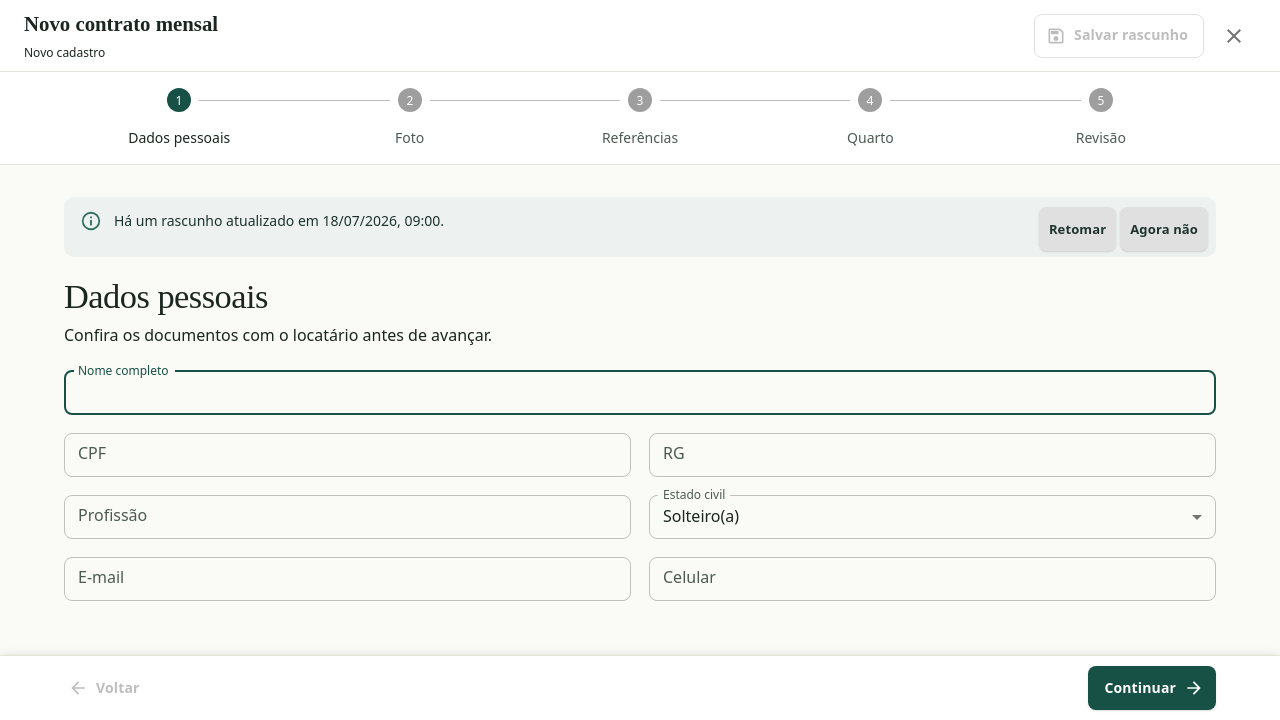
it: OnboardingWizard › retoma um rascunho com foto persistida sem exigir nova seleção
Click the button "Retomar": (1078, 229) [1039, 207, 1116, 251]
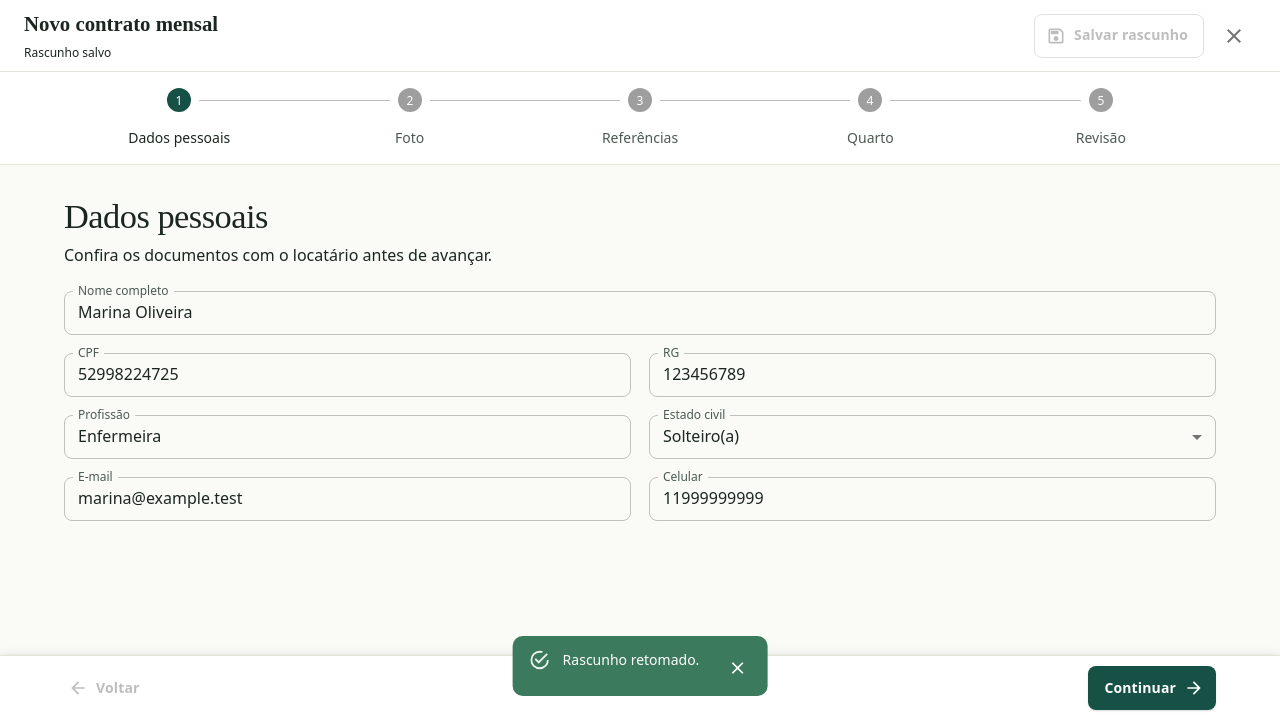
Click the button "Continuar": (1152, 688) [1088, 666, 1216, 710]
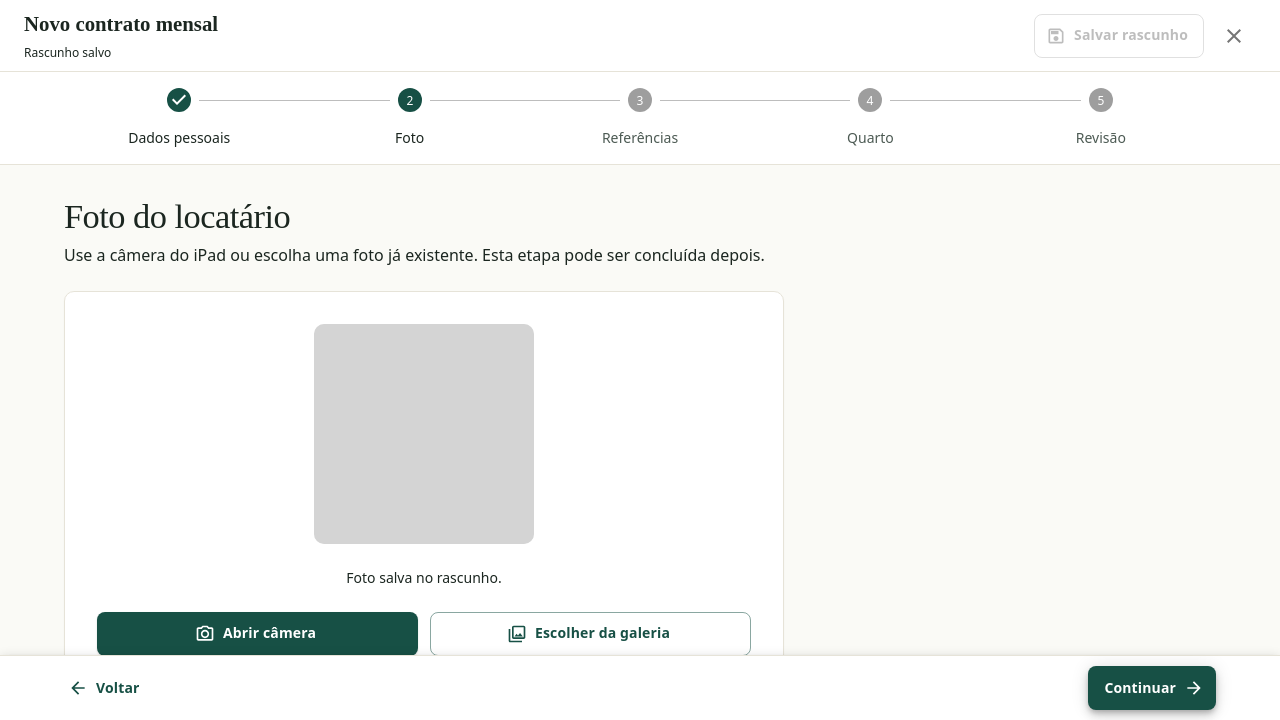
Now the text "Foto salva no rascunho." is shown, box [346, 568, 502, 588]
Click the button "Continuar": (1152, 688) [1088, 666, 1216, 710]
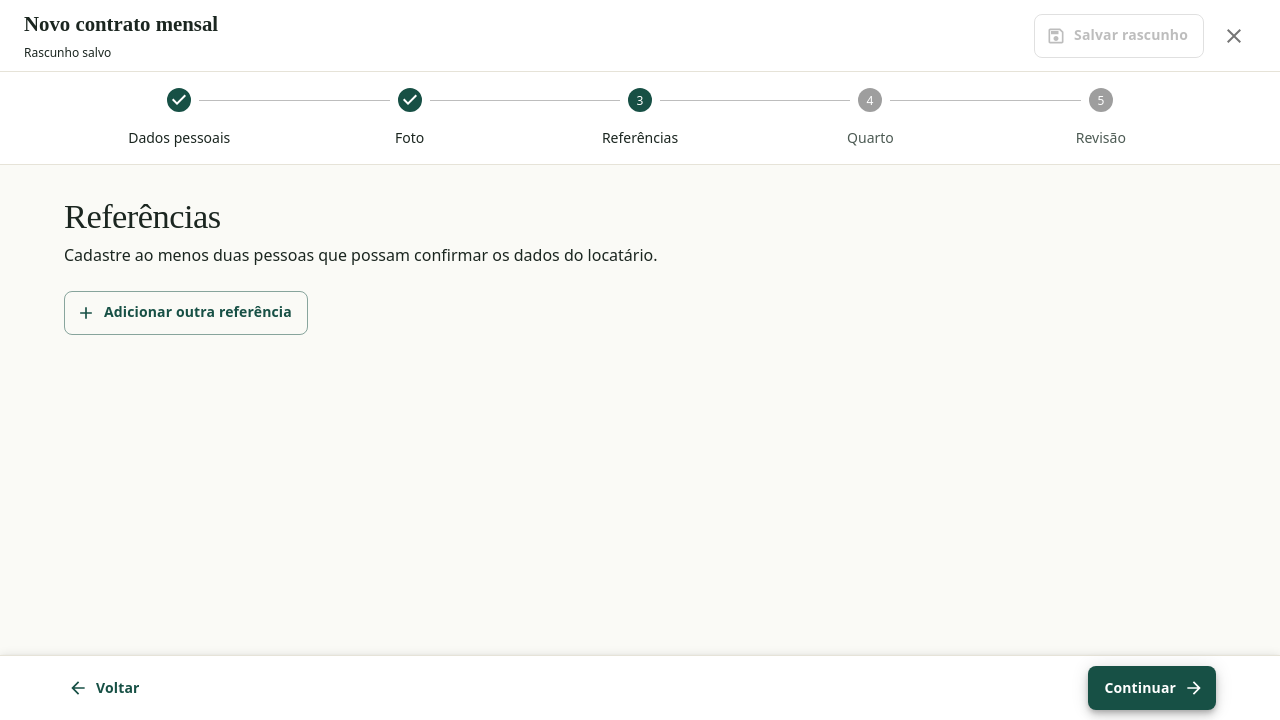
Now the heading "Referências" is shown, box [64, 197, 221, 235]
